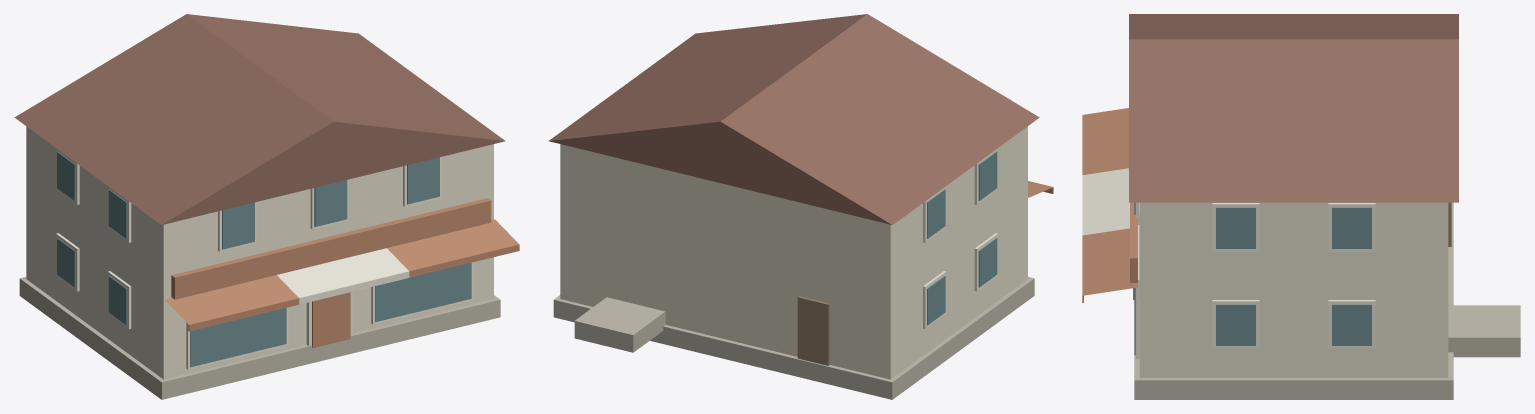
3 views of the same model, side by side, from view 1: azimuth 30°, elevation 25°; view 2: azimuth 150°, elevation 25°; view 3: azimuth 270°, elevation 25° (orthographic). The views are drawn at different scales.
Size of the model in its own units: 12.3 by 8.15 by 12.09.
